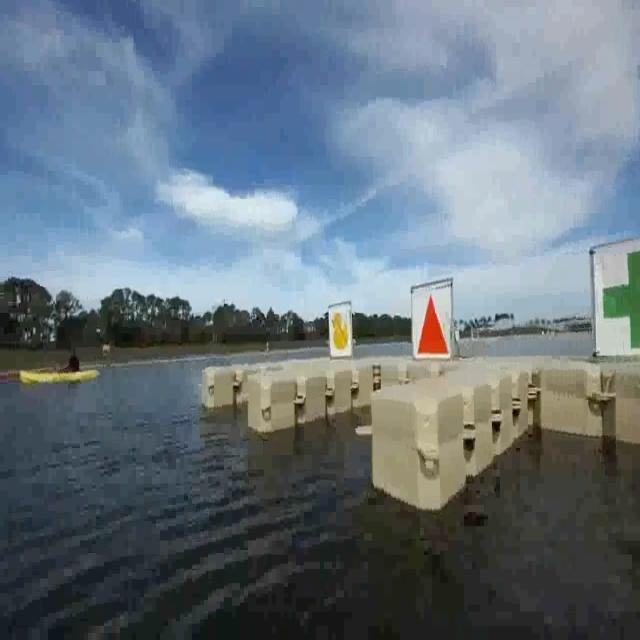blue-cross: (590, 244, 640, 356)
red-dot: (410, 288, 451, 356)
yellow-duck: (328, 300, 351, 354)
